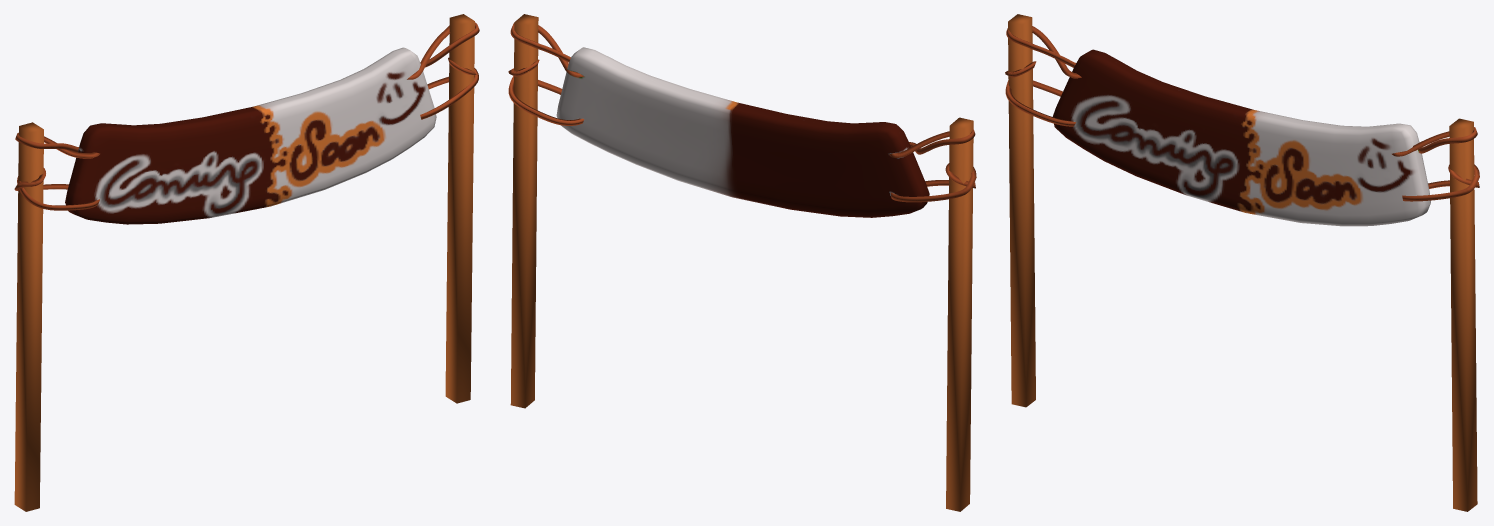
The model's file is bayrak.fbx.
3 views of the same model, side by side, from view 1: azimuth 30°, elevation 25°; view 2: azimuth 150°, elevation 25°; view 3: azimuth 330°, elevation 25° (orthographic).
Visible parts, largest first — view 1: Plane.076; view 2: Plane.076; view 3: Plane.076.
Boxes of the visible parts, x1=… form: Plane.076: x1=14, y1=14, x2=479, y2=511; Plane.076: x1=508, y1=14, x2=976, y2=511; Plane.076: x1=1005, y1=14, x2=1479, y2=511.
Bounding box in the file's own units: 918 × 725 × 116.
